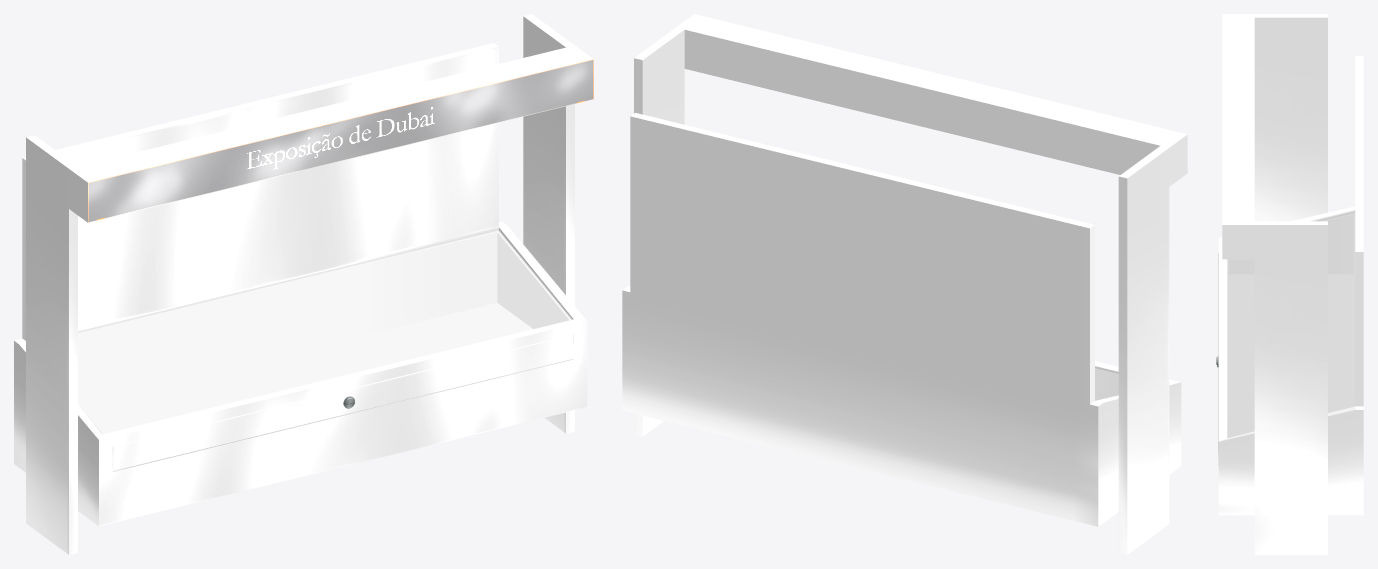
The model's file is bancada_mostruario.fbx.
The picture shows the model from 3 angles, left to right: view 1: azimuth 30°, elevation 25°; view 2: azimuth 150°, elevation 25°; view 3: azimuth 270°, elevation 25°; orthographic projection. The views are drawn at different scales.
Parts seen in each view (by area): view 1: bancada_mostruario; view 2: bancada_mostruario; view 3: bancada_mostruario.
Part boxes in pixels (x1=…): bancada_mostruario: x1=14, y1=14, x2=593, y2=554; bancada_mostruario: x1=622, y1=14, x2=1187, y2=554; bancada_mostruario: x1=1216, y1=14, x2=1363, y2=554.
Size of the model in its own units: 2060 by 1502 by 609.
Materials: 4 (2 with a texture image).
